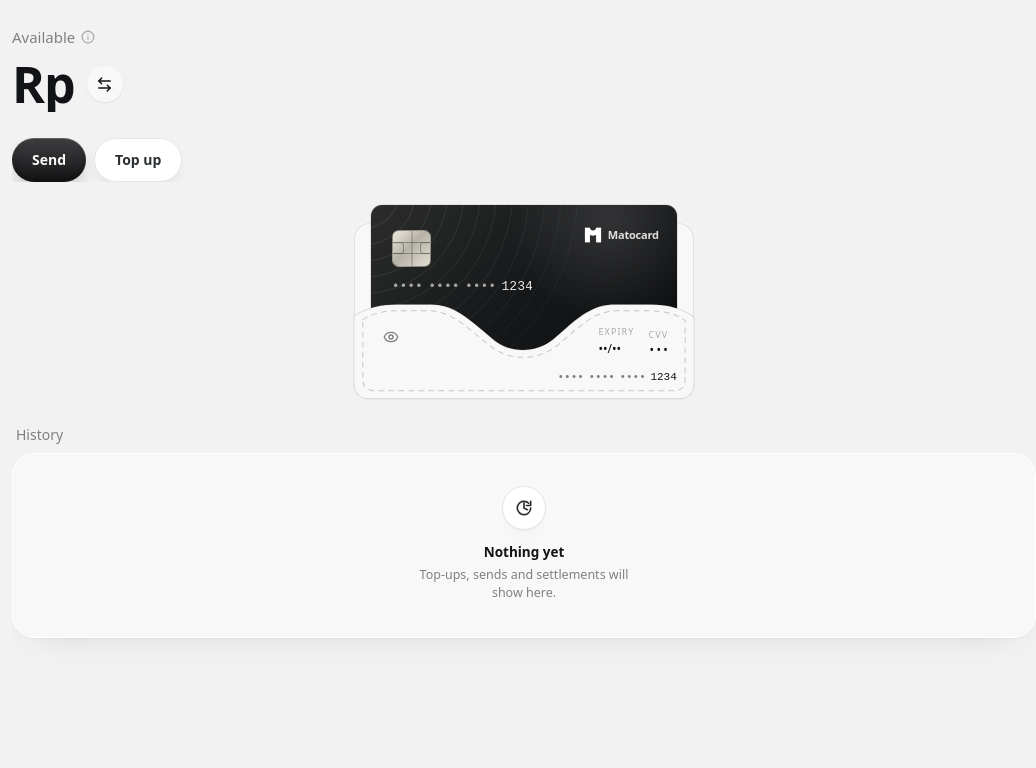
the swap button puts AUSD in the headline and back, and remembers it
The width and height of the screenshot is (1036, 768).
What coordinates should you click on to do the following:
click the button named "Show in AUSD"
I would click on:
 (105, 84)
Its box is [87,66,123,102].
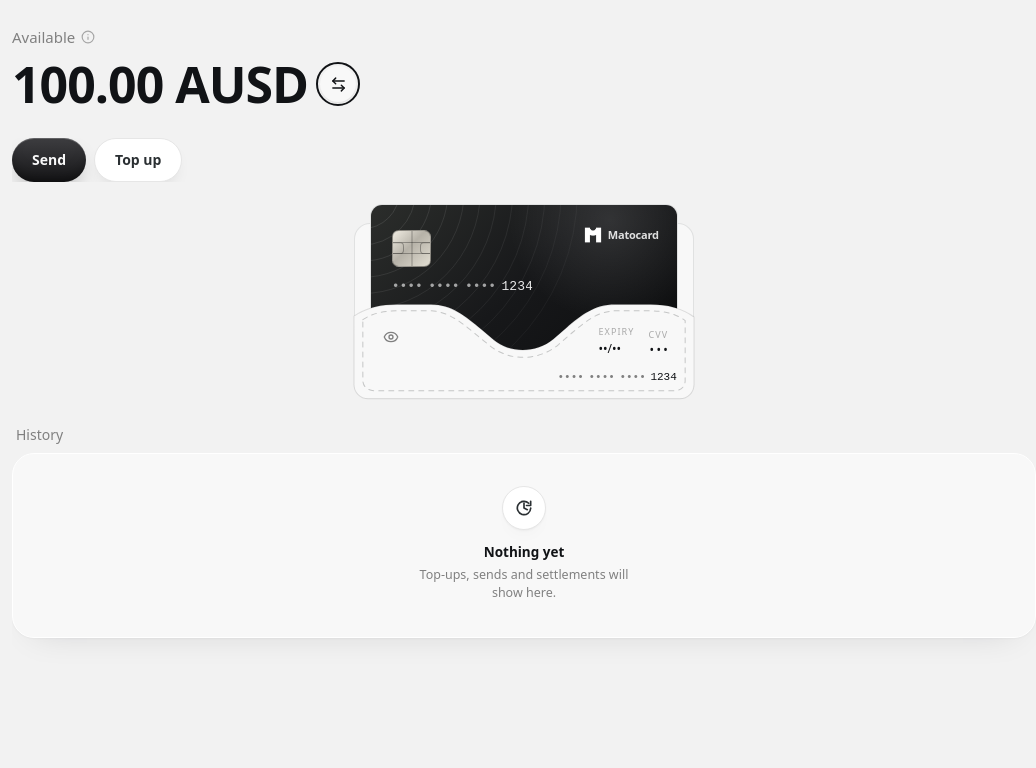
Expected: the button named "Show in rupiah" is shown
Expected: the text "100.00 AUSD" is shown, [12,56,308,112]
What coordinates should you click on to do the following:
click the button named "Show in rupiah"
I would click on:
 (338, 84)
Its box is [320,66,356,102].
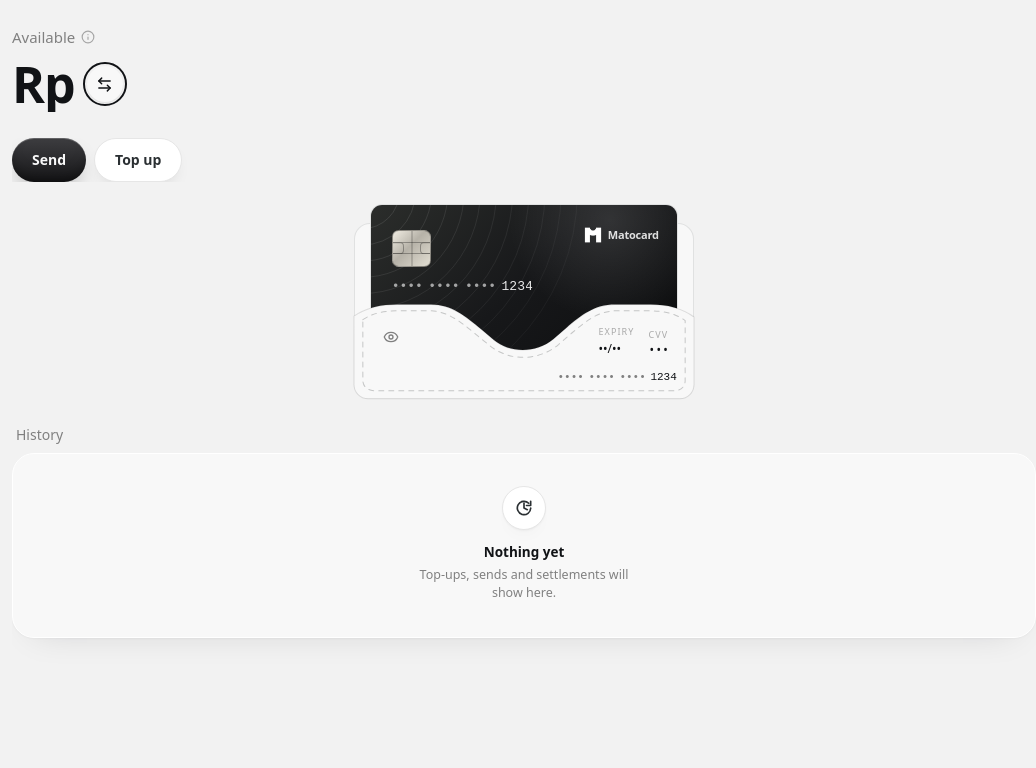
Expected: the button named "Show in AUSD" is shown, [87,66,123,102]
